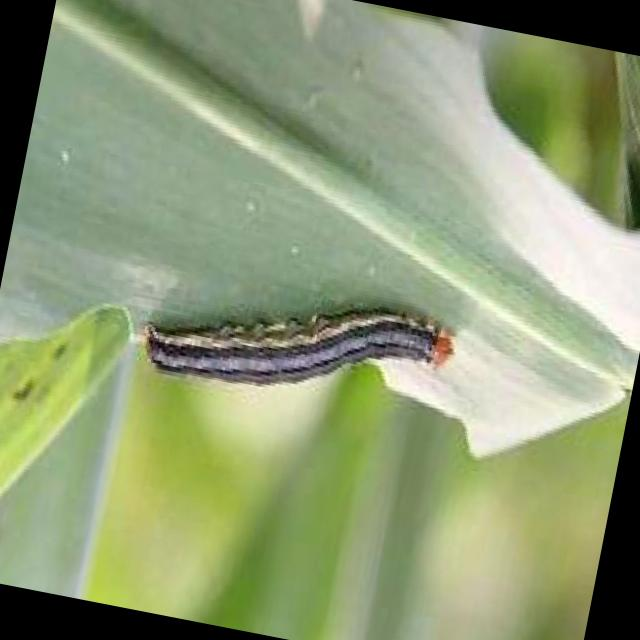pest: (132, 266, 460, 434)
